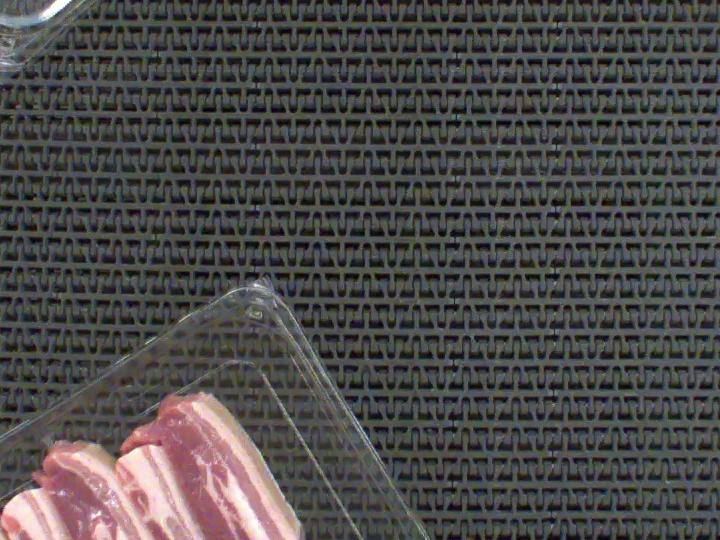packaging-error: (36, 428, 66, 450)
